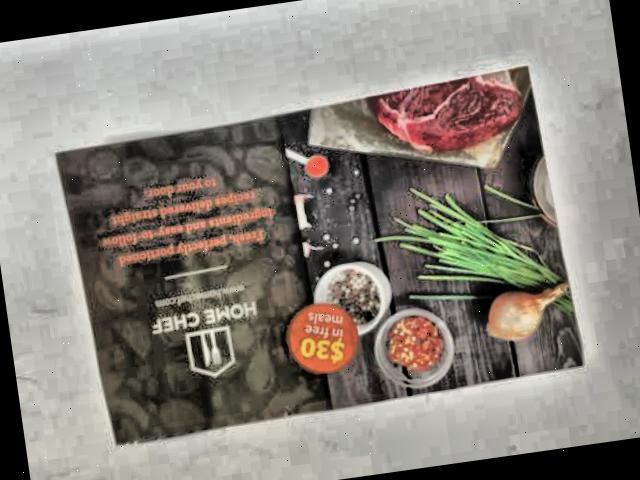Paper: (55, 42, 612, 462)
